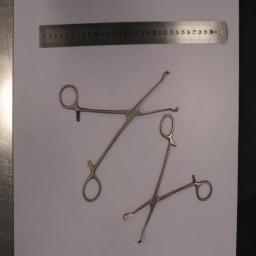Babcock Tissue Forceps: (124, 114, 212, 242)
